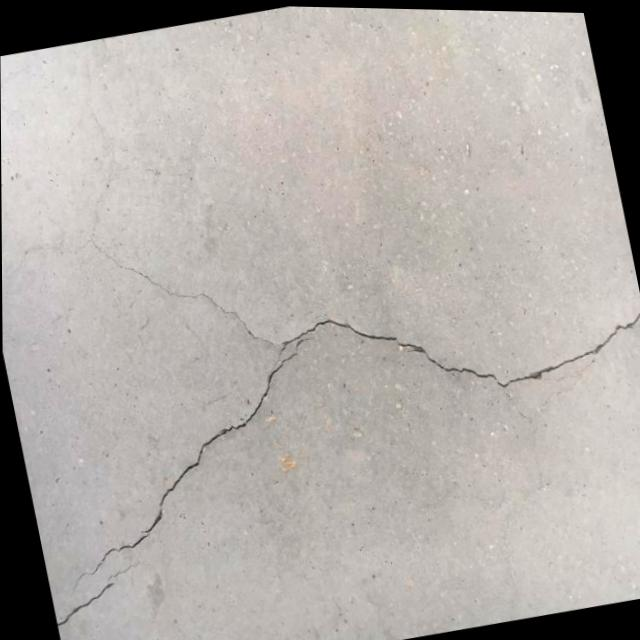Crack: (1, 255, 338, 639), (274, 212, 640, 469)
